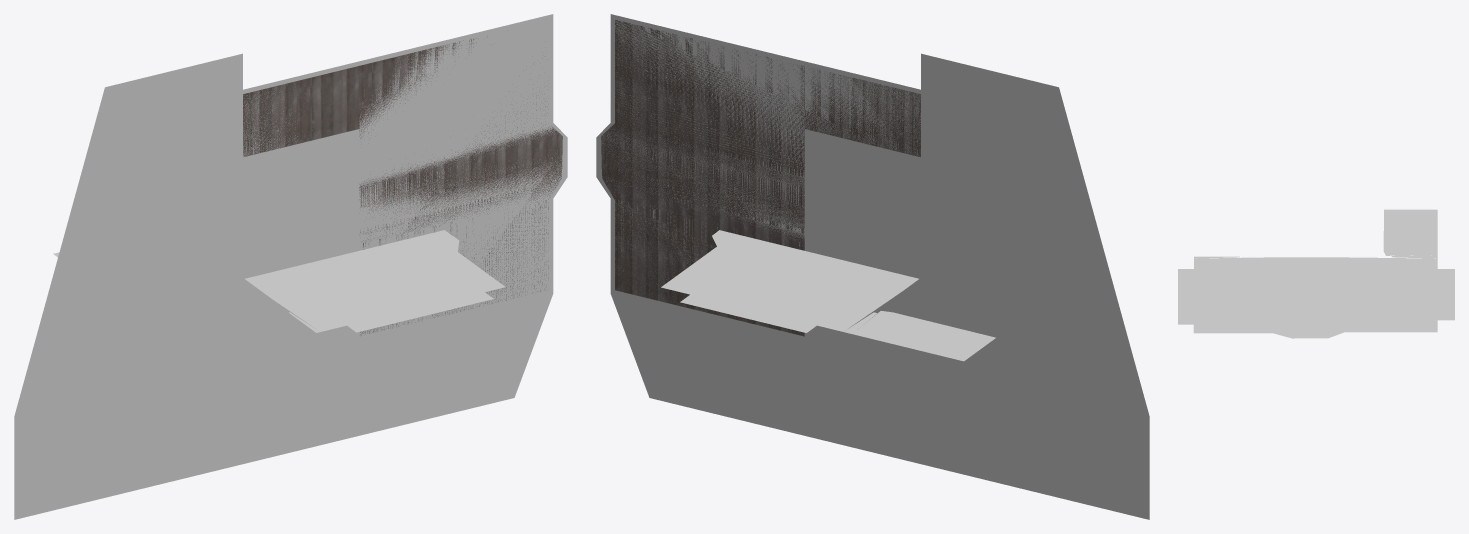
Rendered from house0.FBX.
3 renders of one model, left to right at view 1: azimuth 30°, elevation 25°; view 2: azimuth 150°, elevation 25°; view 3: azimuth 270°, elevation 25°, orthographic. The views are drawn at different scales.
Visible parts, largest first — view 1: house0_weather_mask, house_shadow, house0_kitchen_floor, house0_lounge_floor, house0_hall_floor, house0_lounge_ambient, house0_hall_ambient, house0_kitchen_ambient; view 2: house_shadow, house0_lounge_floor, house0_kitchen_floor, house0_weather_mask, house0_lounge_ambient, house0_hall_floor, house0_kitchen_ambient, house0_hall_ambient; view 3: house0_lounge_ambient, house0_kitchen_ambient.
Part boxes in pixels (<box>): house0_weather_mask: <box>105,14,567,402</box>; house_shadow: <box>14,88,552,519</box>; house0_kitchen_floor: <box>109,60,247,397</box>; house0_lounge_floor: <box>243,38,562,335</box>; house0_hall_floor: <box>247,133,359,361</box>; house0_lounge_ambient: <box>53,230,504,332</box>; house0_hall_ambient: <box>247,158,351,359</box>; house0_kitchen_ambient: <box>321,241,493,332</box>; house_shadow: <box>611,88,1149,519</box>; house0_lounge_floor: <box>601,20,920,336</box>; house0_kitchen_floor: <box>916,59,1054,397</box>; house0_weather_mask: <box>596,14,1058,402</box>; house0_lounge_ambient: <box>661,230,995,361</box>; house0_hall_floor: <box>804,133,916,363</box>; house0_kitchen_ambient: <box>680,239,889,332</box>; house0_hall_ambient: <box>808,148,916,362</box>; house0_lounge_ambient: <box>1193,209,1437,338</box>; house0_kitchen_ambient: <box>1178,269,1454,324</box>.
Bounding box in the file's own units: 1283 × 910 × 671.
Materials: 1 (1 with a texture image).
